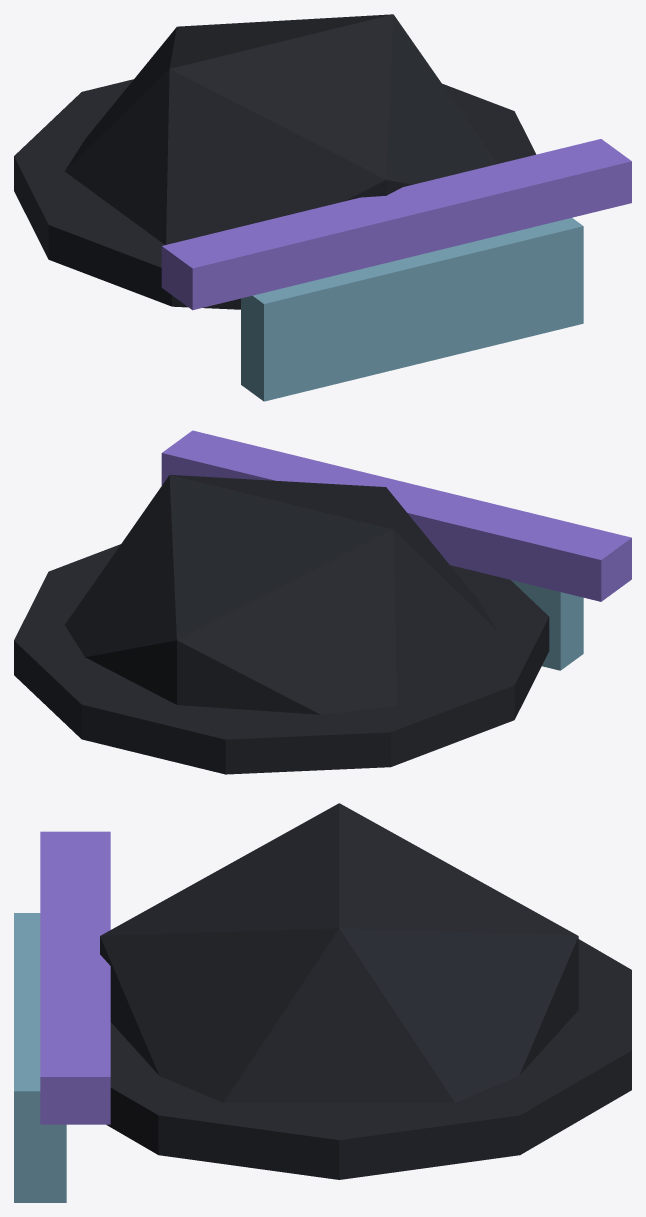
Rendered from helmet_lv3.glb.
The picture shows the model from 3 angles, top to bottom: view 1: azimuth 30°, elevation 25°; view 2: azimuth 150°, elevation 25°; view 3: azimuth 270°, elevation 25°; orthographic projection. The views are drawn at different scales.
Parts seen in each view (by area): view 1: model; view 2: model; view 3: model.
Part boxes in pixels (x1,y1,x2,y2): model: [14, 14, 631, 401]; model: [14, 430, 631, 774]; model: [14, 803, 631, 1202].
Size of the model in its own units: 0.35 by 0.1557 by 0.3514.
